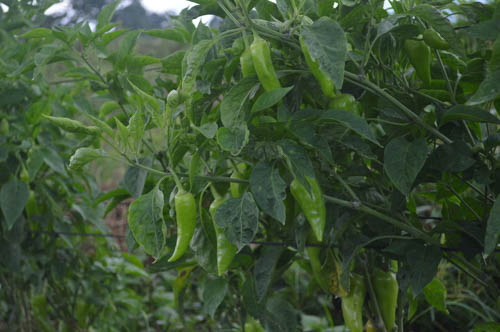ChiliPepper: (289, 178, 325, 240), (169, 194, 197, 268), (212, 202, 236, 272), (302, 39, 332, 95), (367, 270, 397, 326), (254, 43, 282, 98), (402, 40, 432, 83), (342, 274, 360, 327), (420, 31, 445, 47), (238, 54, 255, 77)
